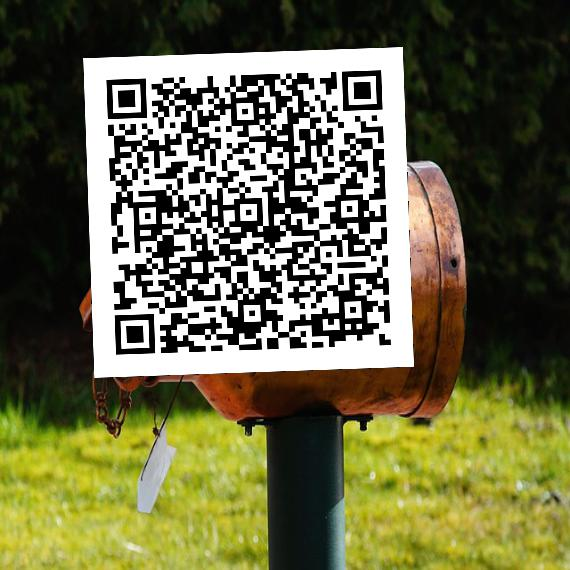qr_code: (83, 47, 413, 377)
